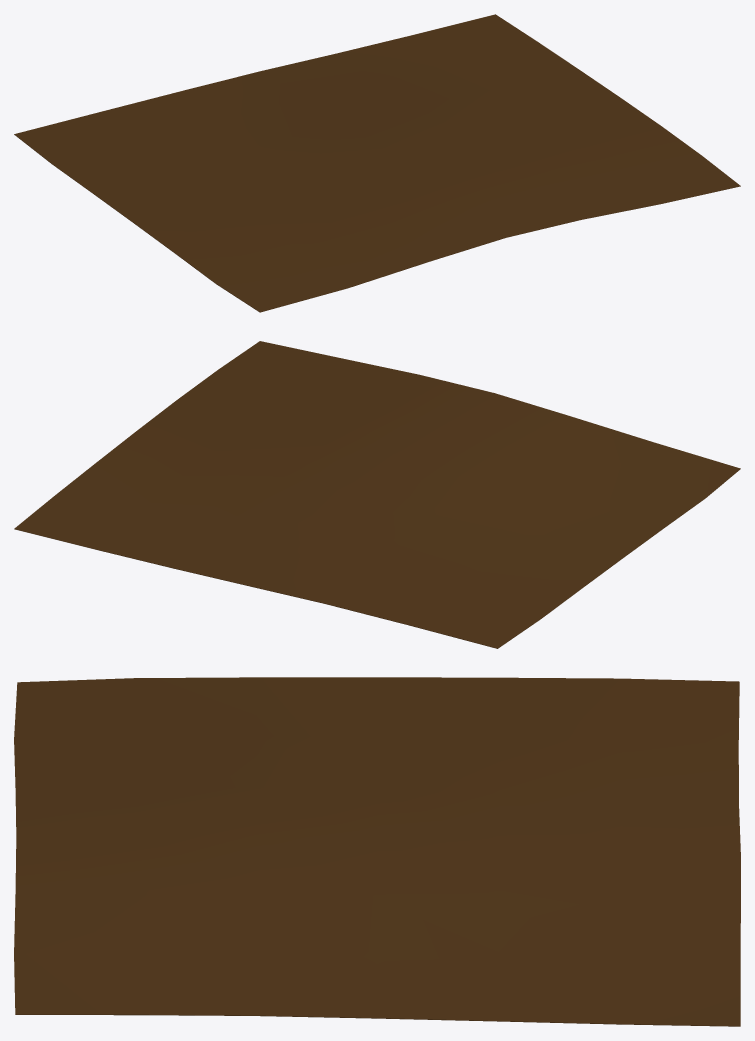
File: A Small Station Letterv.FBX
3 views of the same model, one above another, from view 1: azimuth 30°, elevation 25°; view 2: azimuth 150°, elevation 25°; view 3: azimuth 270°, elevation 25° (orthographic). The views are drawn at different scales.
Visible parts, largest first — view 1: Plane274; view 2: Plane274; view 3: Plane274.
Boxes of the visible parts, bbox=[...] form: Plane274: bbox=[14, 14, 740, 312]; Plane274: bbox=[14, 341, 740, 648]; Plane274: bbox=[14, 677, 740, 1026].
Size of the model in its own units: 1.38 by 0.0467 by 1.21.
